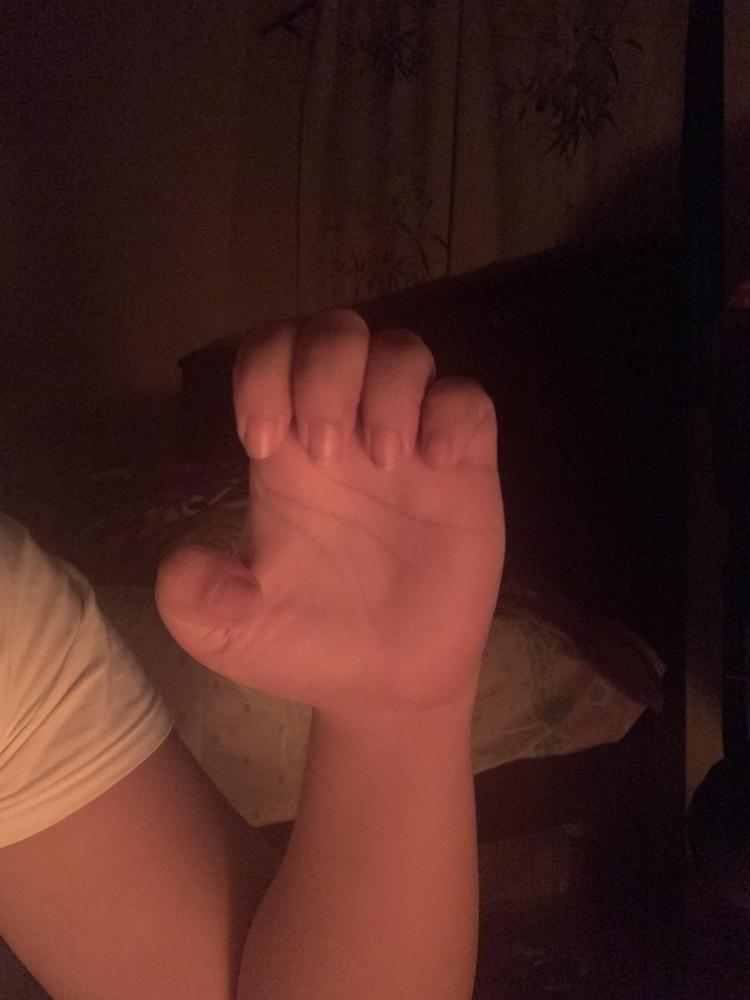e: (151, 308, 506, 714)
